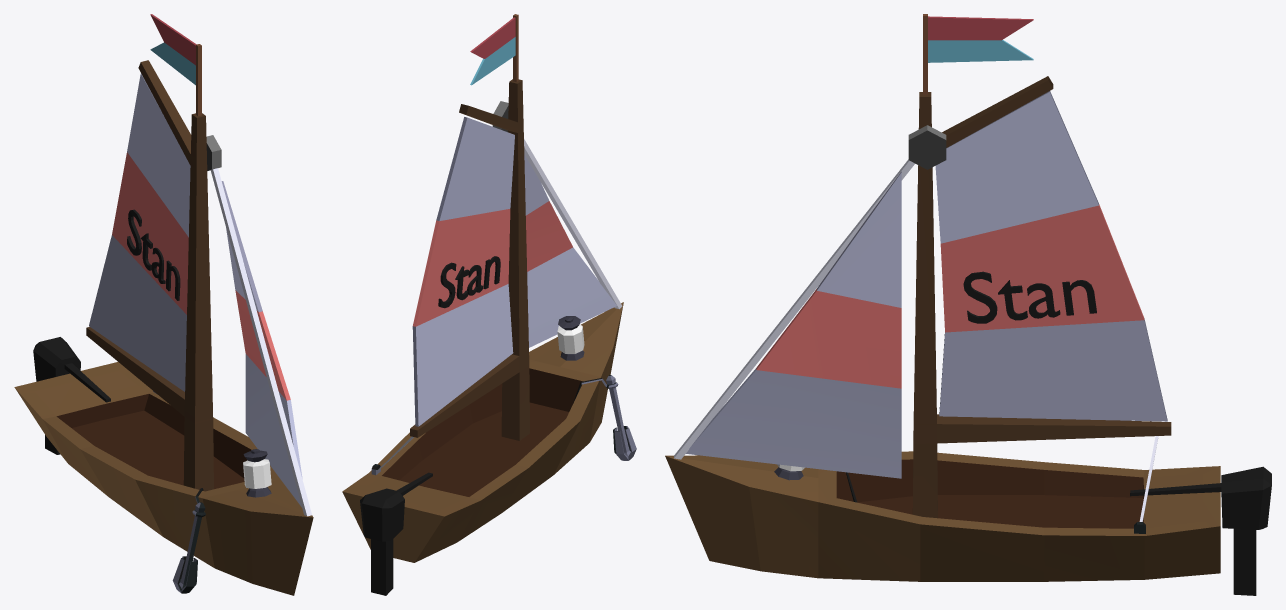
Rendered from M_Sailboat_Ship_Stan.fbx.
The picture shows the model from 3 angles, left to right: view 1: azimuth 30°, elevation 25°; view 2: azimuth 150°, elevation 25°; view 3: azimuth 270°, elevation 25°; orthographic projection. The views are drawn at different scales.
Parts seen in each view (by area): view 1: M_Sailboat_Ship_Stan; view 2: M_Sailboat_Ship_Stan; view 3: M_Sailboat_Ship_Stan.
Boxes of the visible parts, x1,y1,x2,y2 form: M_Sailboat_Ship_Stan: [14, 14, 313, 595]; M_Sailboat_Ship_Stan: [342, 14, 636, 595]; M_Sailboat_Ship_Stan: [665, 14, 1271, 595].
Bounding box in the file's own units: 231 × 795 × 758.
